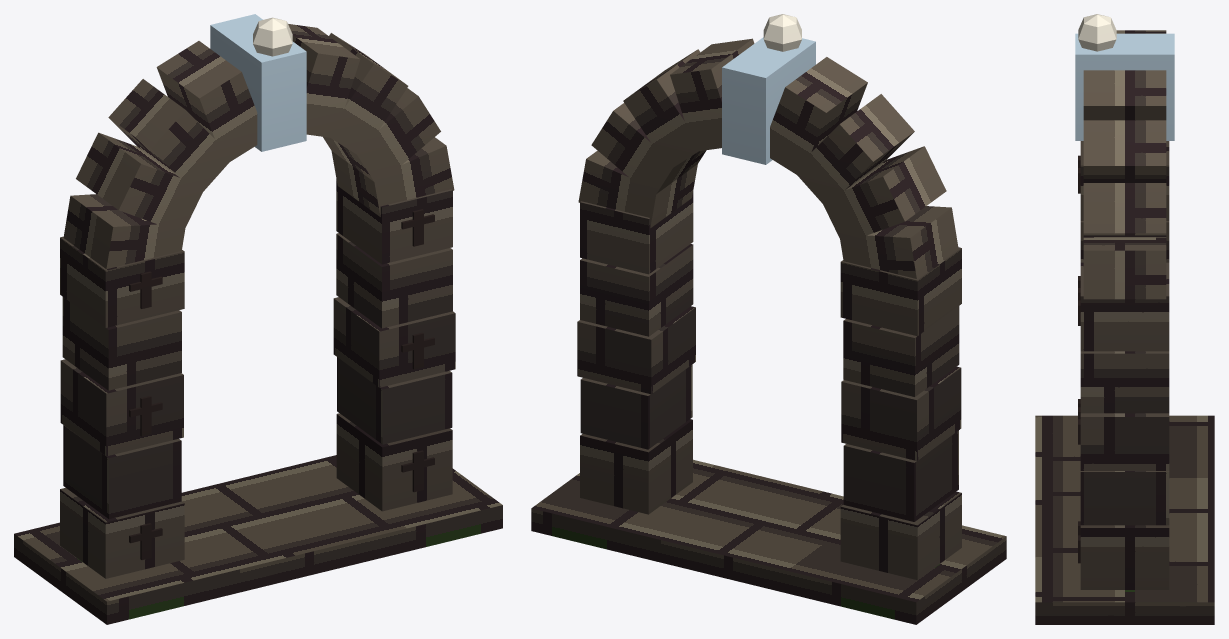
Rendered from rift_arch.glb.
The picture shows the model from 3 angles, left to right: view 1: azimuth 30°, elevation 25°; view 2: azimuth 150°, elevation 25°; view 3: azimuth 270°, elevation 25°; orthographic projection. The views are drawn at different scales.
Parts seen in each view (by area): view 1: rift_arch; view 2: rift_arch; view 3: rift_arch.
Boxes of the visible parts, x1=… form: rift_arch: x1=14, y1=14, x2=502, y2=624; rift_arch: x1=531, y1=14, x2=1006, y2=624; rift_arch: x1=1035, y1=14, x2=1214, y2=624.
Size of the model in its own units: 3.2 by 4.13 by 1.3.
Materials: 2 (1 with a texture image).
